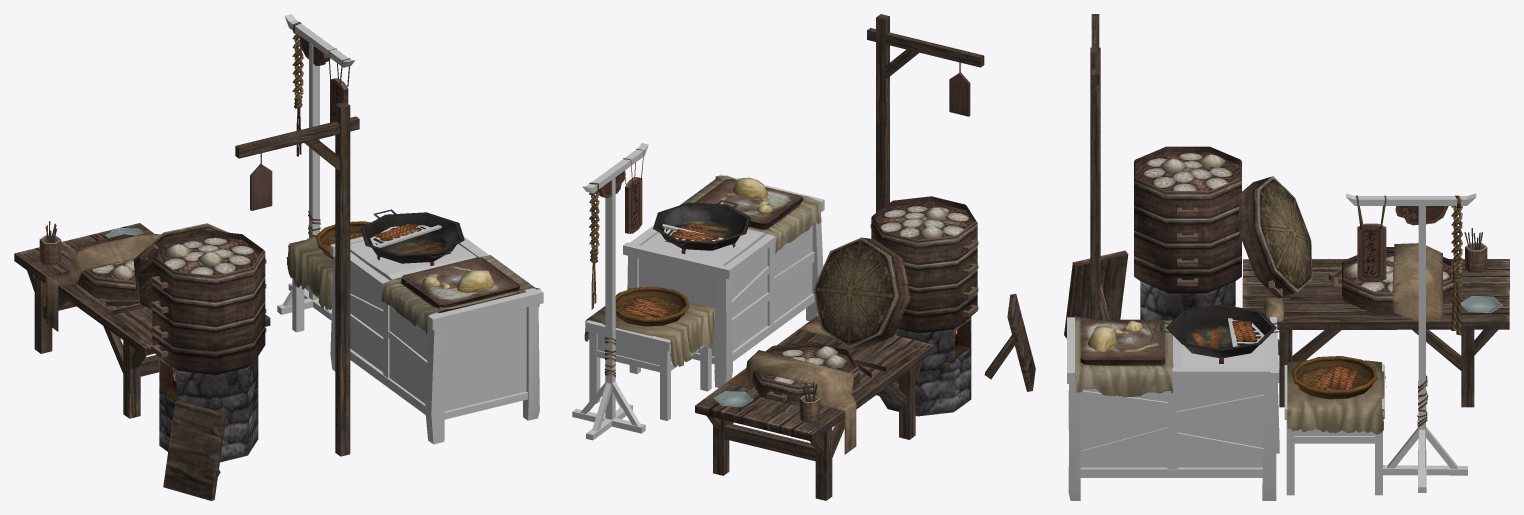
3 renders of one model, left to right at view 1: azimuth 30°, elevation 25°; view 2: azimuth 150°, elevation 25°; view 3: azimuth 270°, elevation 25°, orthographic. The views are drawn at different scales.
Visible parts, largest first — view 1: element3ds.com-ca_thing_misc058, element3ds.com-ca_thing_misc205; view 2: element3ds.com-ca_thing_misc058, element3ds.com-ca_thing_misc205; view 3: element3ds.com-ca_thing_misc205, element3ds.com-ca_thing_misc058.
Part boxes in pixels (bbox=[...]): element3ds.com-ca_thing_misc058: bbox=[14, 102, 359, 500]; element3ds.com-ca_thing_misc205: bbox=[277, 14, 543, 444]; element3ds.com-ca_thing_misc058: bbox=[695, 14, 1035, 500]; element3ds.com-ca_thing_misc205: bbox=[572, 143, 824, 440]; element3ds.com-ca_thing_misc205: bbox=[1067, 193, 1476, 500]; element3ds.com-ca_thing_misc058: bbox=[1064, 14, 1509, 407].
Bounding box in the file's own units: 327 × 307 × 344.
